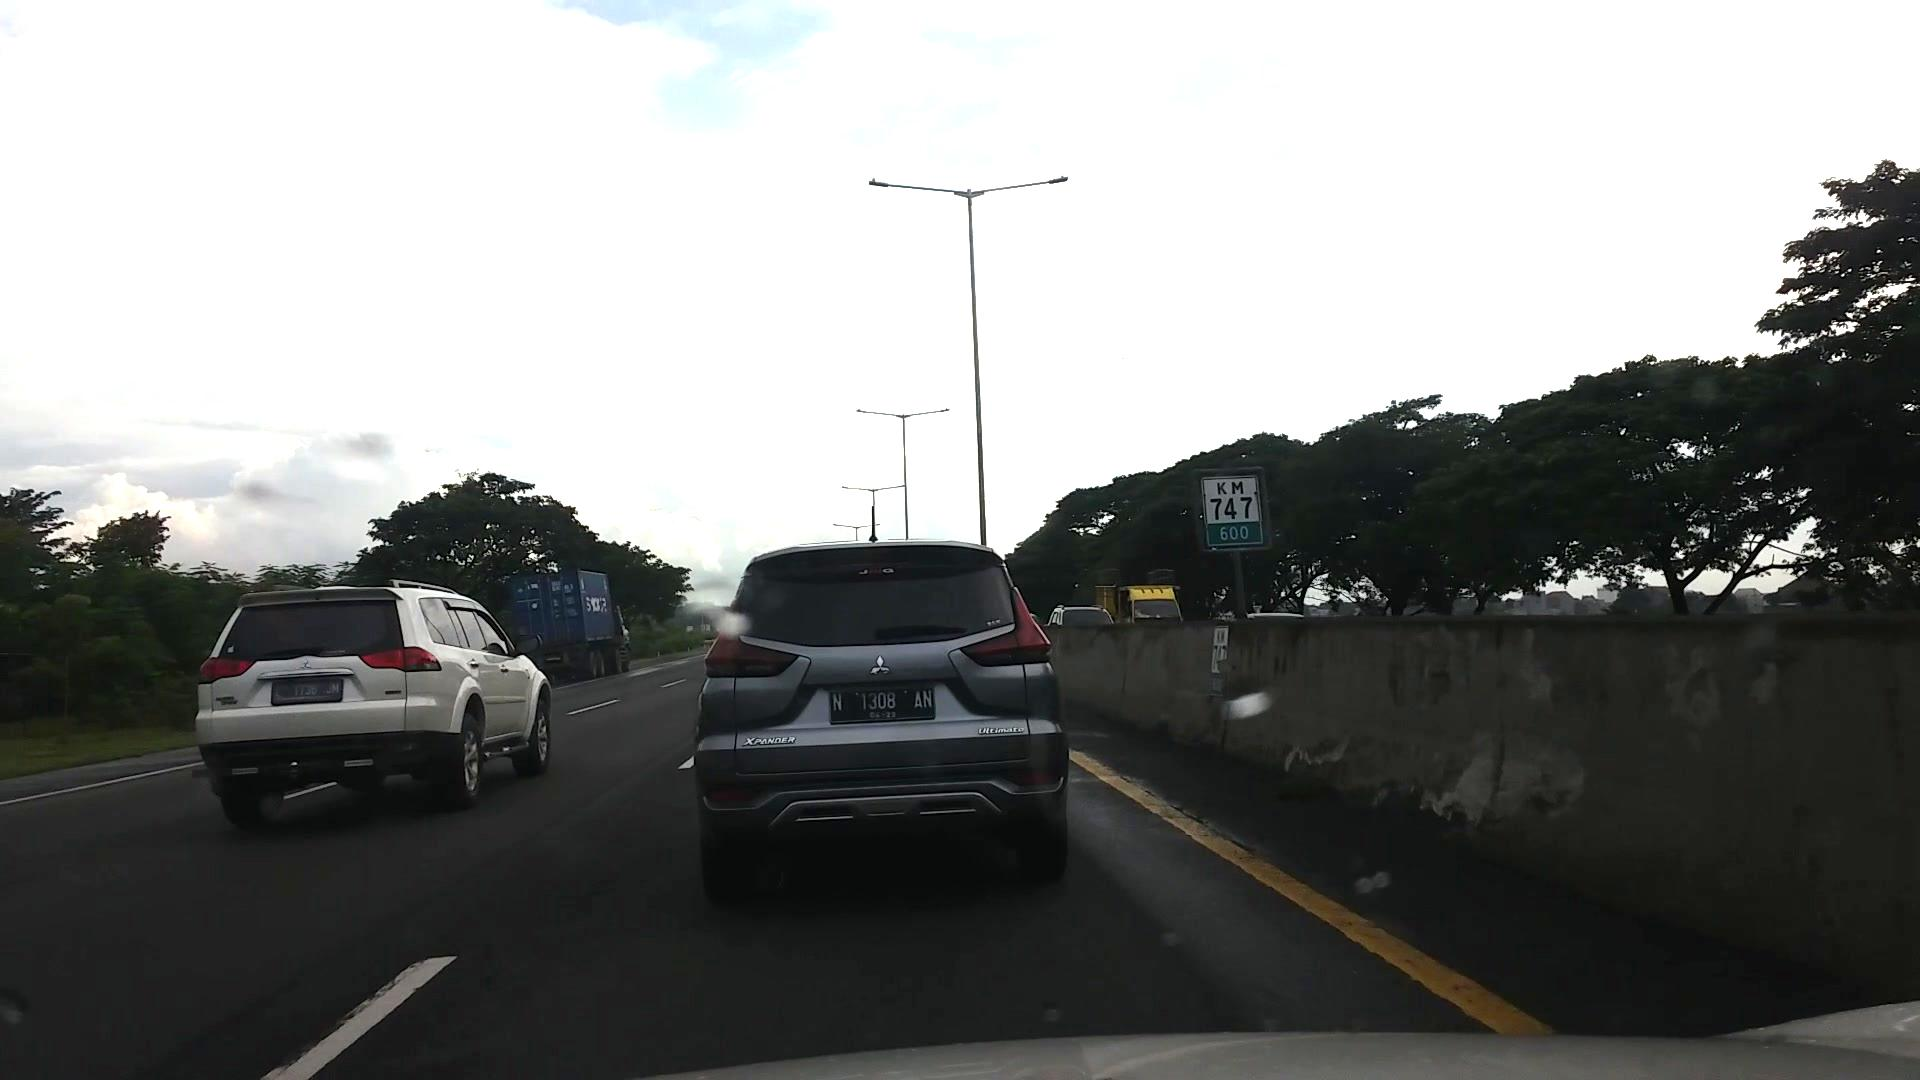plate_positive: (828, 686, 935, 723)
